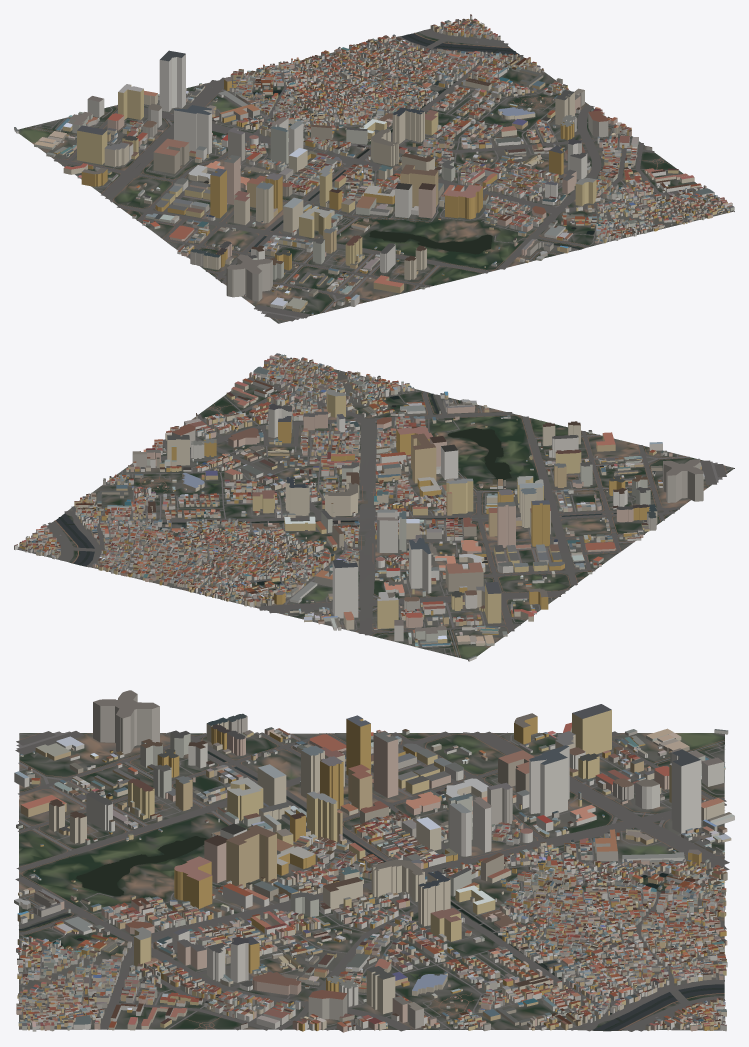
3 views of the same model, one above another, from view 1: azimuth 30°, elevation 25°; view 2: azimuth 150°, elevation 25°; view 3: azimuth 270°, elevation 25° (orthographic). The views are drawn at different scales.
Visible parts, largest first — view 1: buildings, ground, roads, water; view 2: buildings, ground, roads, water; view 3: buildings, ground, roads, water.
Part boxes in pixels (box(x1,y1,x2,y2)): buildings: box(14, 14, 734, 314); ground: box(18, 19, 734, 323); roads: box(25, 21, 719, 323); water: box(220, 33, 594, 281); buildings: box(14, 353, 704, 661); ground: box(16, 359, 734, 659); roads: box(18, 363, 732, 657); water: box(56, 393, 677, 590); buildings: box(14, 690, 734, 1032); ground: box(19, 733, 724, 1031); roads: box(15, 731, 729, 1031); water: box(19, 751, 724, 1031).
Size of the model in its own units: 1442 by 154 by 1432.
